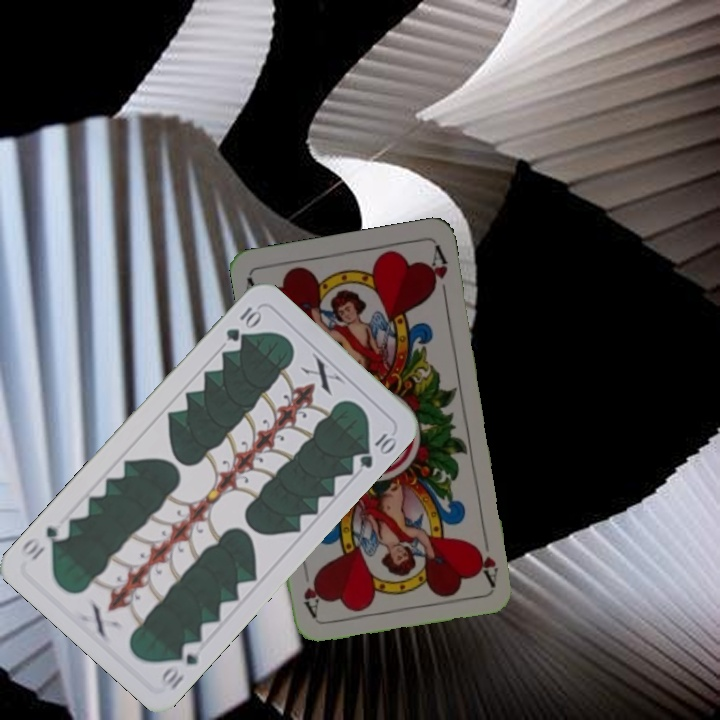G10: (157, 637, 206, 693), (221, 302, 265, 344)
HA: (472, 528, 501, 587)
